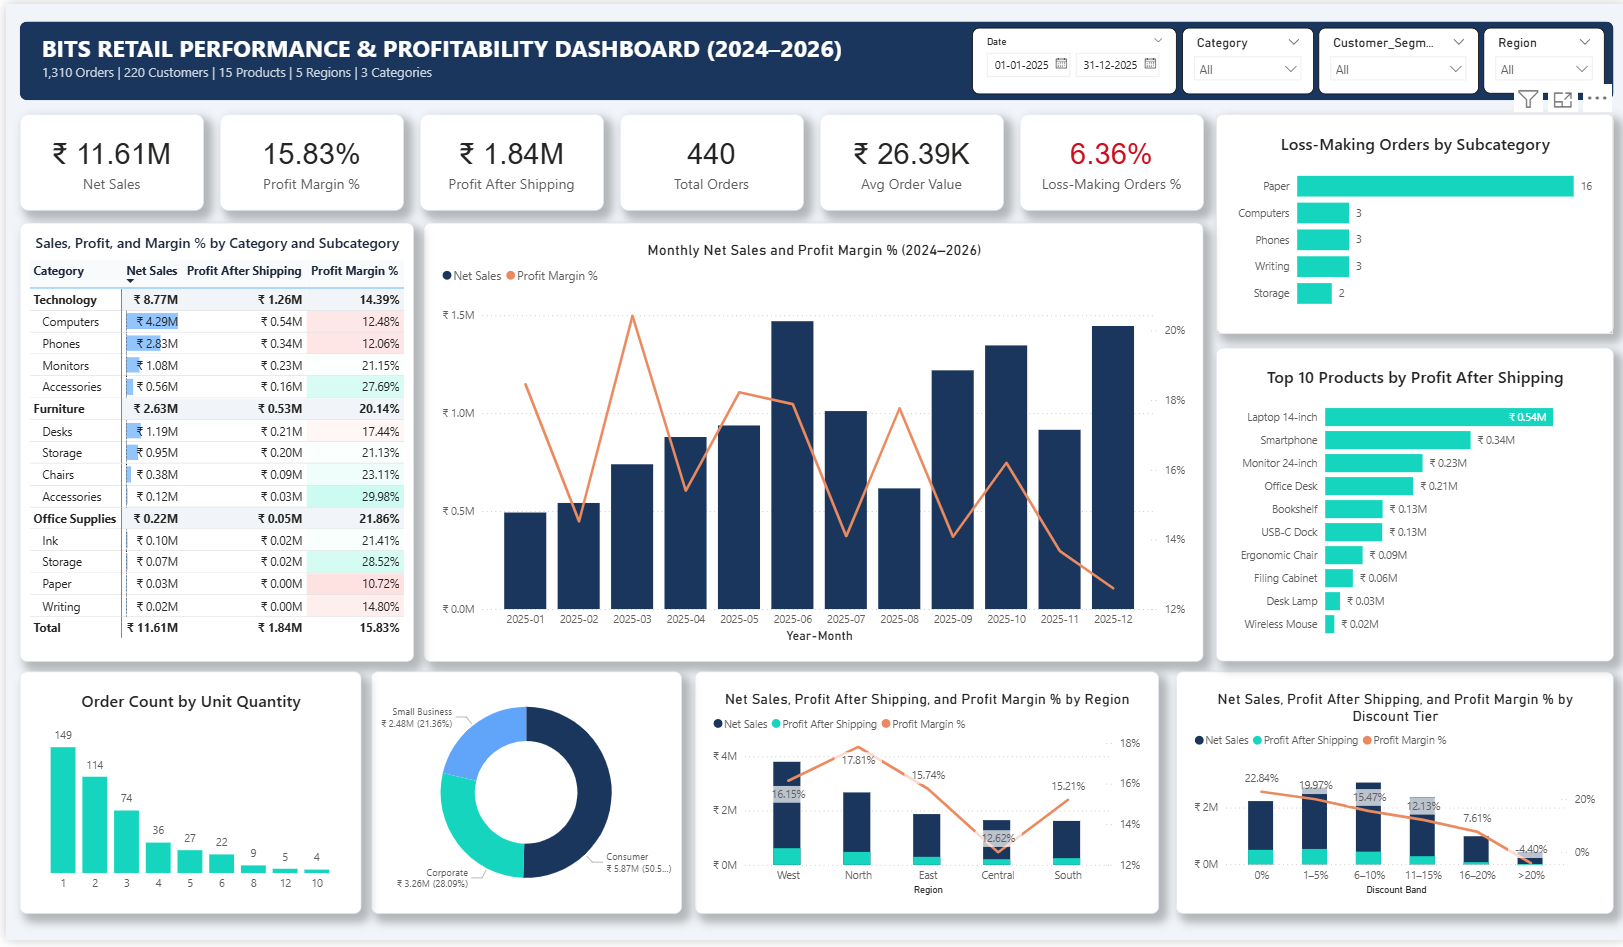

The page's visual inventory and layout, read from the dashboard file:
{"tool":"powerbi","page":{"name":"Page 2","canvas":[1850,1070],"ordinal":1},"visuals":[{"type":"card","fields":{"Values":["retail_sales.Net Sales"]},"box":[15.7,126.2,210,110],"z":0},{"type":"card","fields":{"Values":["retail_sales.Profit Margin %"]},"box":[244.3,126.2,210,110],"z":1000},{"type":"card","fields":{"Values":["retail_sales.Total Orders"]},"box":[701.4,126.2,210,110],"z":2000},{"type":"card","fields":{"Values":["retail_sales.Profit After Shipping"]},"box":[472.9,126.2,210,110],"z":3000},{"type":"shape","box":[15.7,20,1821.4,90],"z":4000},{"type":"textbox","box":[35.7,27.1,946.3,74.3],"z":5000},{"type":"slicer","fields":{"Values":["Date.Date"]},"box":[1104.4,26.9,233.8,76.2],"z":6000},{"type":"slicer","fields":{"Values":["retail_sales.Region"]},"box":[1688.3,27.1,138.6,75],"z":7000},{"type":"slicer","fields":{"Values":["retail_sales.Category"]},"box":[1343.7,26.9,150,76.2],"z":8000},{"type":"slicer","fields":{"Values":["retail_sales.Customer_Segment"]},"box":[1499.7,27.1,182.9,75.7],"z":9000},{"type":"card","fields":{"Values":["retail_sales.Avg Order Value"]},"box":[930,126.2,210,110],"z":10000},{"type":"card","fields":{"Values":["retail_sales.Loss-Making Orders %"]},"box":[1158.6,126.2,210,110],"z":11000},{"type":"barChart","fields":{"Category":["retail_sales.Subcategory"],"Y":["retail_sales.Loss-Making Orders"]},"box":[1382.9,125.7,454.3,251.4],"z":12000},{"type":"lineClusteredColumnComboChart","title":"Monthly Net Sales and Profit Margin % (2024–2026)","fields":{"Category":["Date.Year-Month"],"Y":["retail_sales.Net Sales"],"Y2":["retail_sales.Profit Margin %"]},"box":[477.1,250,891.4,501.4],"z":13000},{"type":"lineClusteredColumnComboChart","title":"Net Sales, Profit After Shipping, and Profit Margin % by Region","fields":{"Category":["retail_sales.Region"],"Y":["retail_sales.Net Sales","retail_sales.Profit After Shipping"],"Y2":["retail_sales.Profit Margin %"]},"box":[787.1,762.9,530,277.1],"z":14000},{"type":"lineClusteredColumnComboChart","title":"Net Sales, Profit After Shipping, and Profit Margin % by Discount Tier","fields":{"Category":["retail_sales.Discount Band"],"Y":["retail_sales.Net Sales","retail_sales.Profit After Shipping"],"Y2":["retail_sales.Profit Margin %"]},"box":[1337.1,762.9,500,277.1],"z":15000},{"type":"pivotTable","title":"Sales, Profit, and Margin % by Category and Subcategory","fields":{"Rows":["retail_sales.Category","retail_sales.Subcategory"],"Values":["retail_sales.Net Sales","retail_sales.Profit After Shipping","retail_sales.Profit Margin %"]},"box":[15,250,450,501.7],"z":16000},{"type":"donutChart","fields":{"Category":["retail_sales.Customer_Segment"],"Y":["retail_sales.Net Sales"]},"box":[416.7,763.3,355,276.7],"z":17000},{"type":"barChart","title":"Top 10 Products by Profit After Shipping","fields":{"Category":["retail_sales.Product_Name"],"Y":["retail_sales.Profit After Shipping"]},"box":[1382.9,392.9,454.3,358.6],"z":18000},{"type":"clusteredColumnChart","title":"Order Count by Unit Quantity","fields":{"Category":["retail_sales.Quantity"],"Y":["retail_sales.Total Orders"]},"box":[15,763.3,390,276.7],"z":19000}]}

Visuals, with their boxes in screenshot pixels (x1, y1, x2, y2), scaled from the page's 1850x1070 canvas onto the 1623x947 screenshot:
card - retail_sales.Net Sales: (left=14, top=112, right=198, bottom=209)
card - retail_sales.Profit Margin %: (left=214, top=112, right=399, bottom=209)
card - retail_sales.Total Orders: (left=615, top=112, right=800, bottom=209)
card - retail_sales.Profit After Shipping: (left=415, top=112, right=599, bottom=209)
shape: (left=14, top=18, right=1612, bottom=97)
textbox: (left=31, top=24, right=862, bottom=90)
slicer - Date.Date: (left=969, top=24, right=1174, bottom=91)
slicer - retail_sales.Region: (left=1481, top=24, right=1603, bottom=90)
slicer - retail_sales.Category: (left=1179, top=24, right=1310, bottom=91)
slicer - retail_sales.Customer_Segment: (left=1316, top=24, right=1476, bottom=91)
card - retail_sales.Avg Order Value: (left=816, top=112, right=1000, bottom=209)
card - retail_sales.Loss-Making Orders %: (left=1016, top=112, right=1201, bottom=209)
barChart - retail_sales.Subcategory x retail_sales.Loss-Making Orders: (left=1213, top=111, right=1612, bottom=334)
"Monthly Net Sales and Profit Margin % (2024–2026)" lineClusteredColumnComboChart: (left=419, top=221, right=1201, bottom=665)
"Net Sales, Profit After Shipping, and Profit Margin % by Region" lineClusteredColumnComboChart: (left=691, top=675, right=1155, bottom=920)
"Net Sales, Profit After Shipping, and Profit Margin % by Discount Tier" lineClusteredColumnComboChart: (left=1173, top=675, right=1612, bottom=920)
"Sales, Profit, and Margin % by Category and Subcategory" pivotTable: (left=13, top=221, right=408, bottom=665)
donutChart - retail_sales.Customer_Segment x retail_sales.Net Sales: (left=366, top=676, right=677, bottom=920)
"Top 10 Products by Profit After Shipping" barChart: (left=1213, top=348, right=1612, bottom=665)
"Order Count by Unit Quantity" clusteredColumnChart: (left=13, top=676, right=355, bottom=920)
